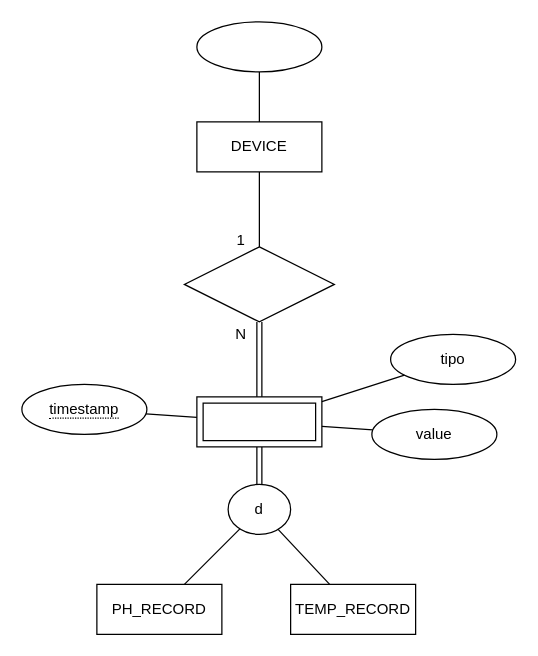
This 538x656 diagram has some shape labels left out. Each missing label, with the box of its shape:
has: (183, 246, 334, 322)
id: (196, 21, 322, 72)
RECORD: (196, 396, 322, 447)
